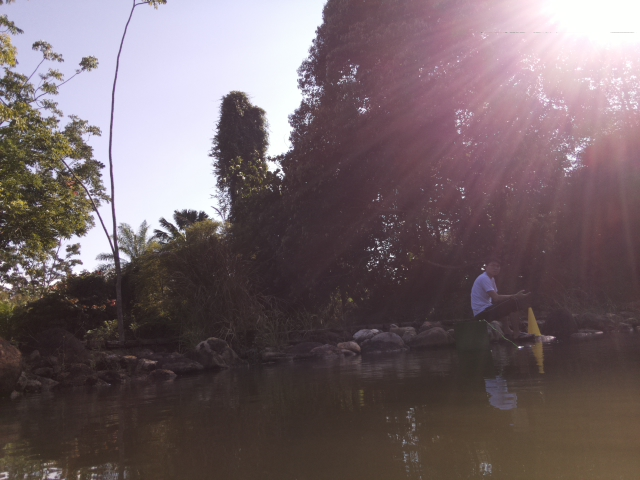checkpoint: (524, 307, 545, 345)
obstacle: (452, 319, 491, 355)
